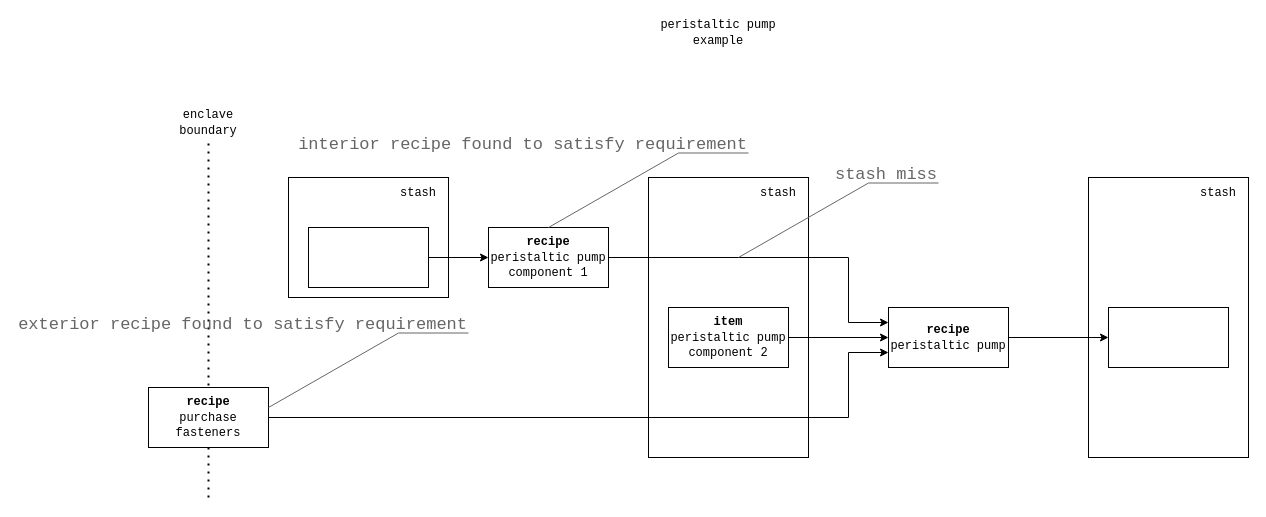
The diagram is 1266 pixels wide and 517 high, and some of its shapes have lost their labels. The shapes that lost their labels are listed below. From the top down, each one's centre as x and y in pixels, then its label:
At [368,257]: "item filament".
At [1168,337]: "item peristaltic pump".
